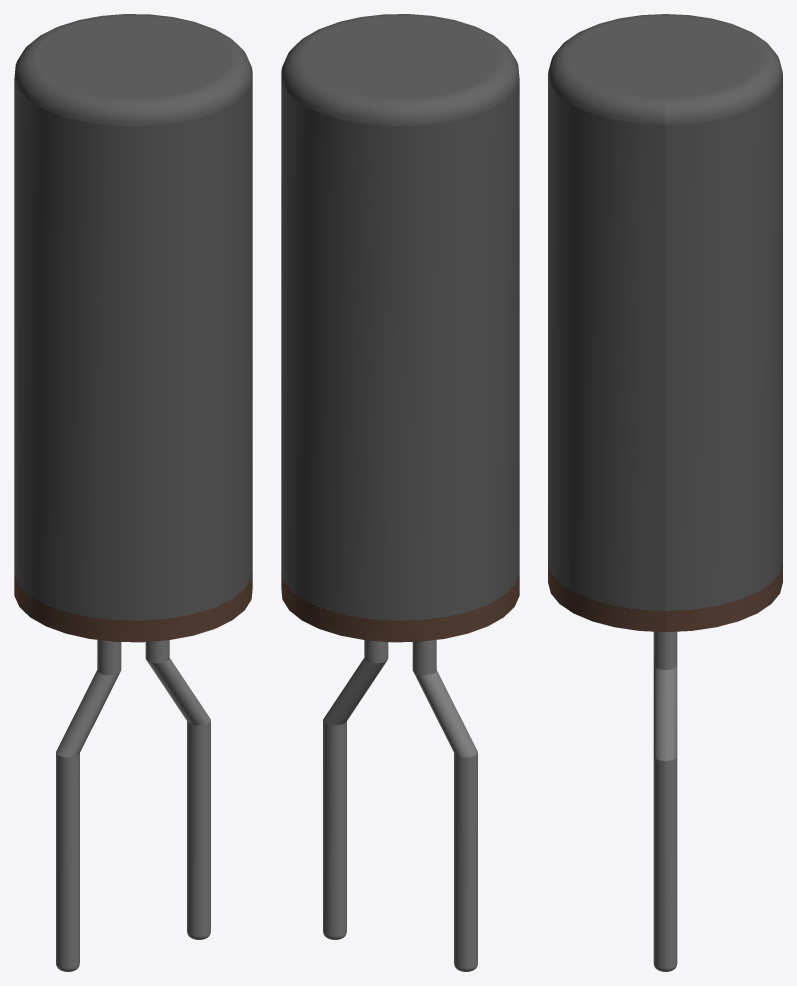
File: kc-crystal_c38-lf_d3.0mm_l8.0mm_vertical.glb
The picture shows the model from 3 angles, left to right: view 1: azimuth 30°, elevation 25°; view 2: azimuth 150°, elevation 25°; view 3: azimuth 270°, elevation 25°; orthographic projection.
Parts seen in each view (by area): view 1: 0.08333333333333333_0.08333333333333333_0.08333333333333333_, 0.25_0.25_0.25_0, 0.08333333333333333_0.08333333333333333_0_0; view 2: 0.08333333333333333_0.08333333333333333_0.08333333333333333_, 0.25_0.25_0.25_0, 0.08333333333333333_0.08333333333333333_0_0; view 3: 0.08333333333333333_0.08333333333333333_0.08333333333333333_, 0.25_0.25_0.25_0, 0.08333333333333333_0.08333333333333333_0_0.
Part boxes in pixels (x1,y1,x2,y2): 0.08333333333333333_0.08333333333333333_0.08333333333333333_: (14, 14, 252, 620); 0.25_0.25_0.25_0: (56, 640, 210, 971); 0.08333333333333333_0.08333333333333333_0_0: (14, 568, 252, 642); 0.08333333333333333_0.08333333333333333_0.08333333333333333_: (281, 14, 519, 620); 0.25_0.25_0.25_0: (323, 640, 477, 971); 0.08333333333333333_0.08333333333333333_0_0: (281, 568, 519, 642); 0.08333333333333333_0.08333333333333333_0.08333333333333333_: (548, 14, 782, 610); 0.25_0.25_0.25_0: (653, 631, 677, 971); 0.08333333333333333_0.08333333333333333_0_0: (548, 562, 782, 632).
Size of the model in its own units: 0.3 by 1.24 by 0.3.
